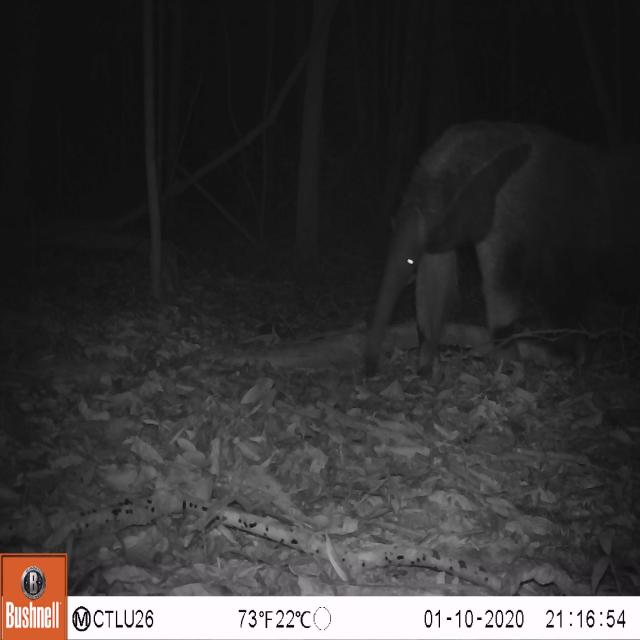Giant Anteater: (360, 113, 640, 383)
